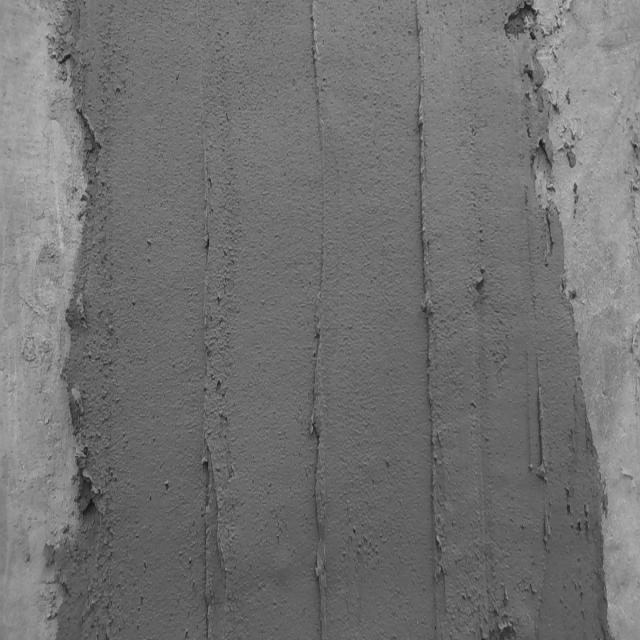trowels marks: (410, 4, 446, 625), (308, 4, 331, 635), (200, 121, 217, 640), (532, 363, 548, 483)
